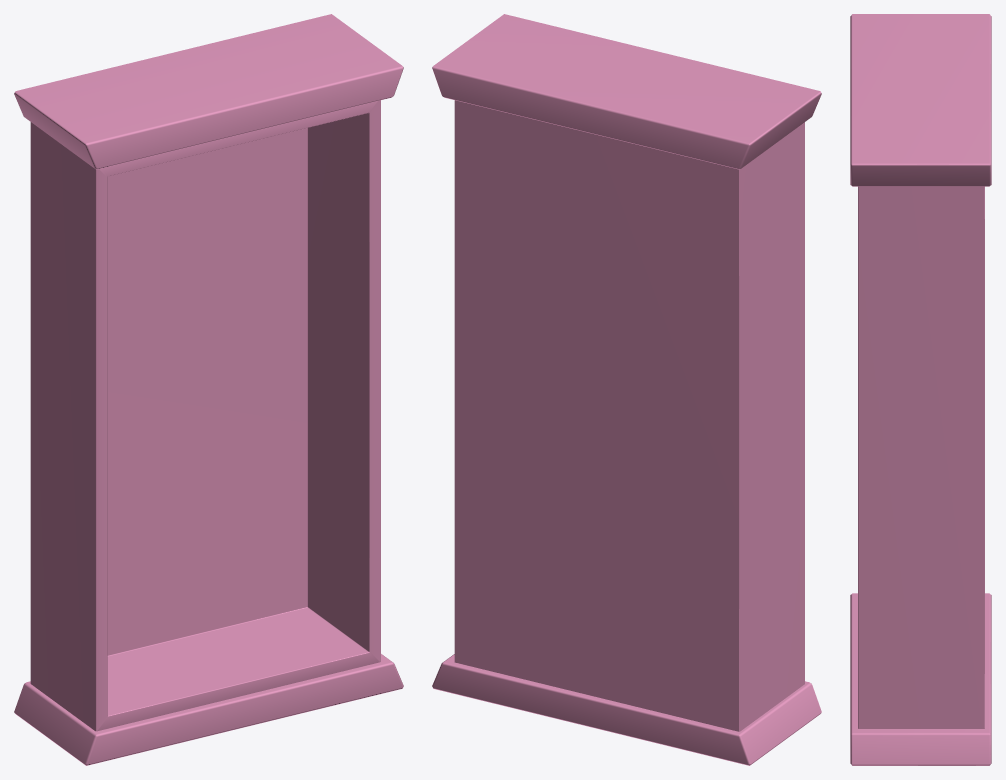
The model's file is bookshelf4.fbx.
The picture shows the model from 3 angles, left to right: view 1: azimuth 30°, elevation 25°; view 2: azimuth 150°, elevation 25°; view 3: azimuth 270°, elevation 25°; orthographic projection. The views are drawn at different scales.
Parts seen in each view (by area): view 1: group36_pCube51; view 2: group36_pCube51; view 3: group36_pCube51.
Part boxes in pixels (x1,y1,x2,y2): group36_pCube51: [14, 14, 403, 765]; group36_pCube51: [432, 14, 821, 765]; group36_pCube51: [850, 14, 991, 765].
Bounding box in the file's own units: 130 × 242 × 51.36.
